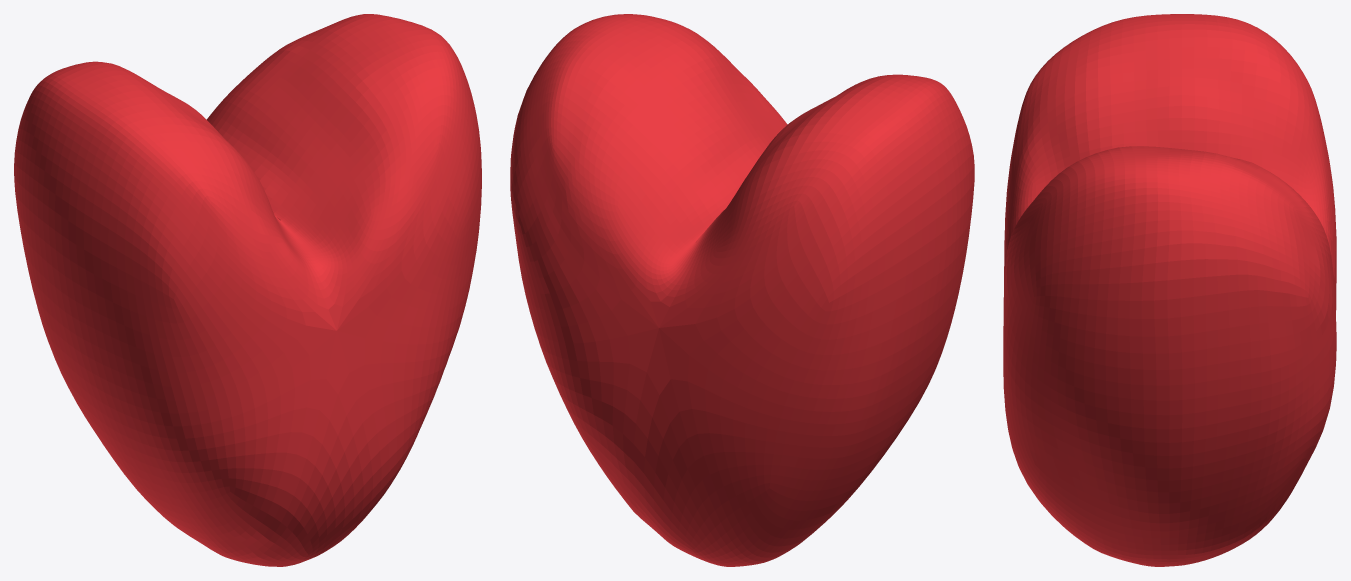
The model's file is Heart.fbx.
The picture shows the model from 3 angles, left to right: view 1: azimuth 30°, elevation 25°; view 2: azimuth 150°, elevation 25°; view 3: azimuth 270°, elevation 25°; orthographic projection. The views are drawn at different scales.
Visible parts, largest first — view 1: Heart; view 2: Heart; view 3: Heart.
Part boxes in pixels (left/top/right/bottom): Heart: left=14, top=14, right=481, bottom=566; Heart: left=510, top=14, right=974, bottom=566; Heart: left=1003, top=14, right=1336, bottom=566.
Size of the model in its own units: 44.98 by 52.45 by 33.55.
